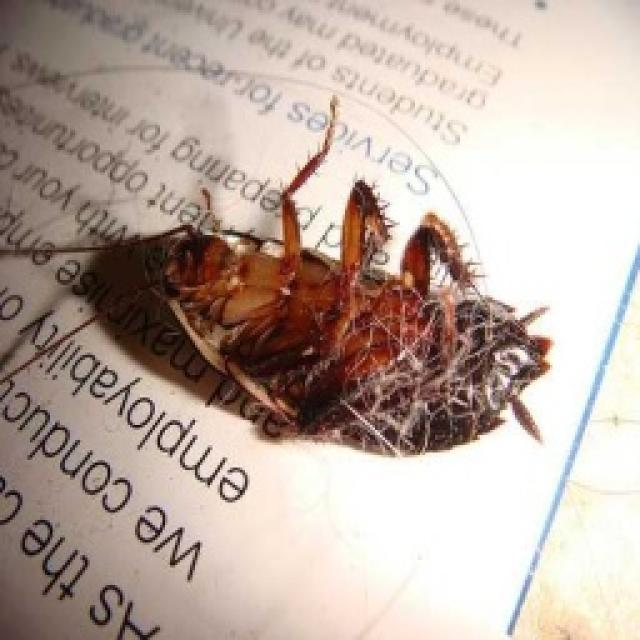cockroach: (68, 111, 567, 544)
